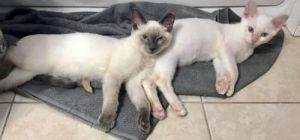siamese: (128, 6, 180, 63)
